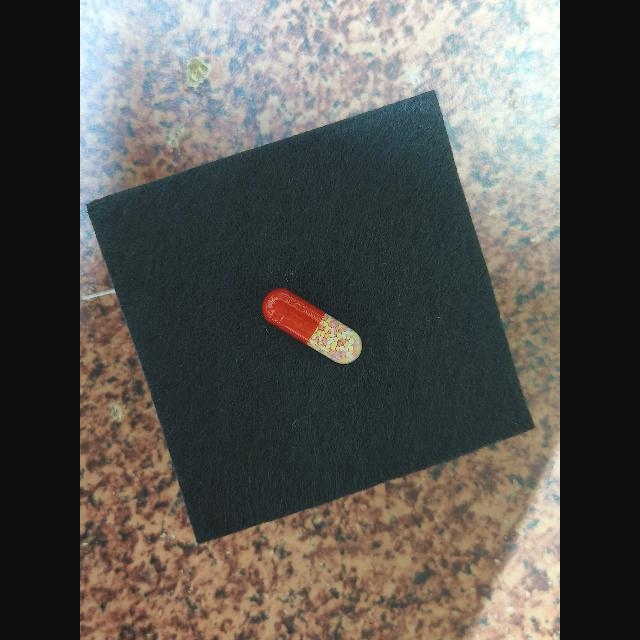Intact Capsule: (262, 288, 362, 364)
